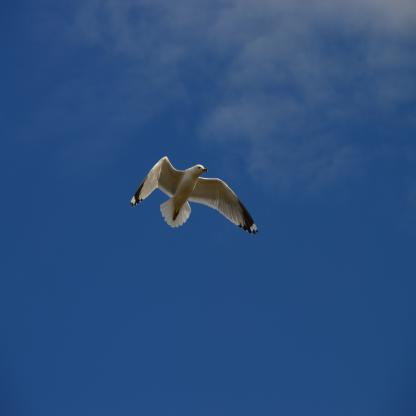bird: (130, 156, 259, 235)
